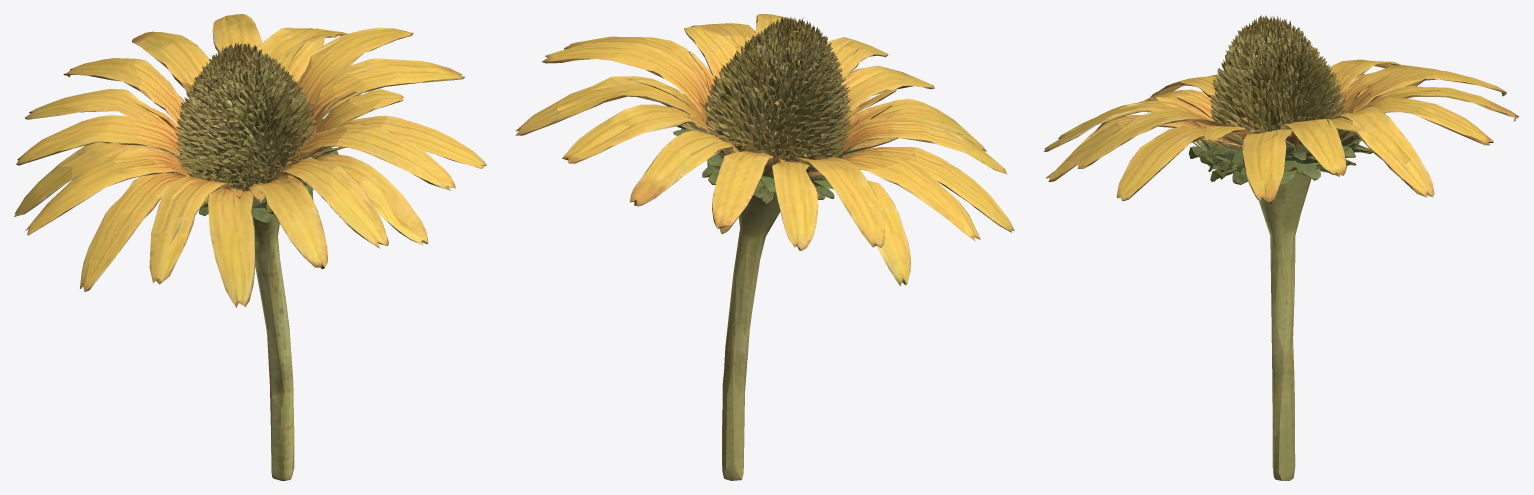
File: rudbeckia-01.glb
The picture shows the model from 3 angles, left to right: view 1: azimuth 30°, elevation 25°; view 2: azimuth 150°, elevation 25°; view 3: azimuth 270°, elevation 25°; orthographic projection. The views are drawn at different scales.
Visible parts, largest first — view 1: mesh_node; view 2: mesh_node; view 3: mesh_node.
Boxes of the visible parts, <box> form: mesh_node: <box>14,14,486,480</box>; mesh_node: <box>515,14,1014,480</box>; mesh_node: <box>1043,14,1519,480</box>.
Bounding box in the file's own units: 1.86 × 1.9 × 1.88.
Materials: 1 (1 with a texture image).
